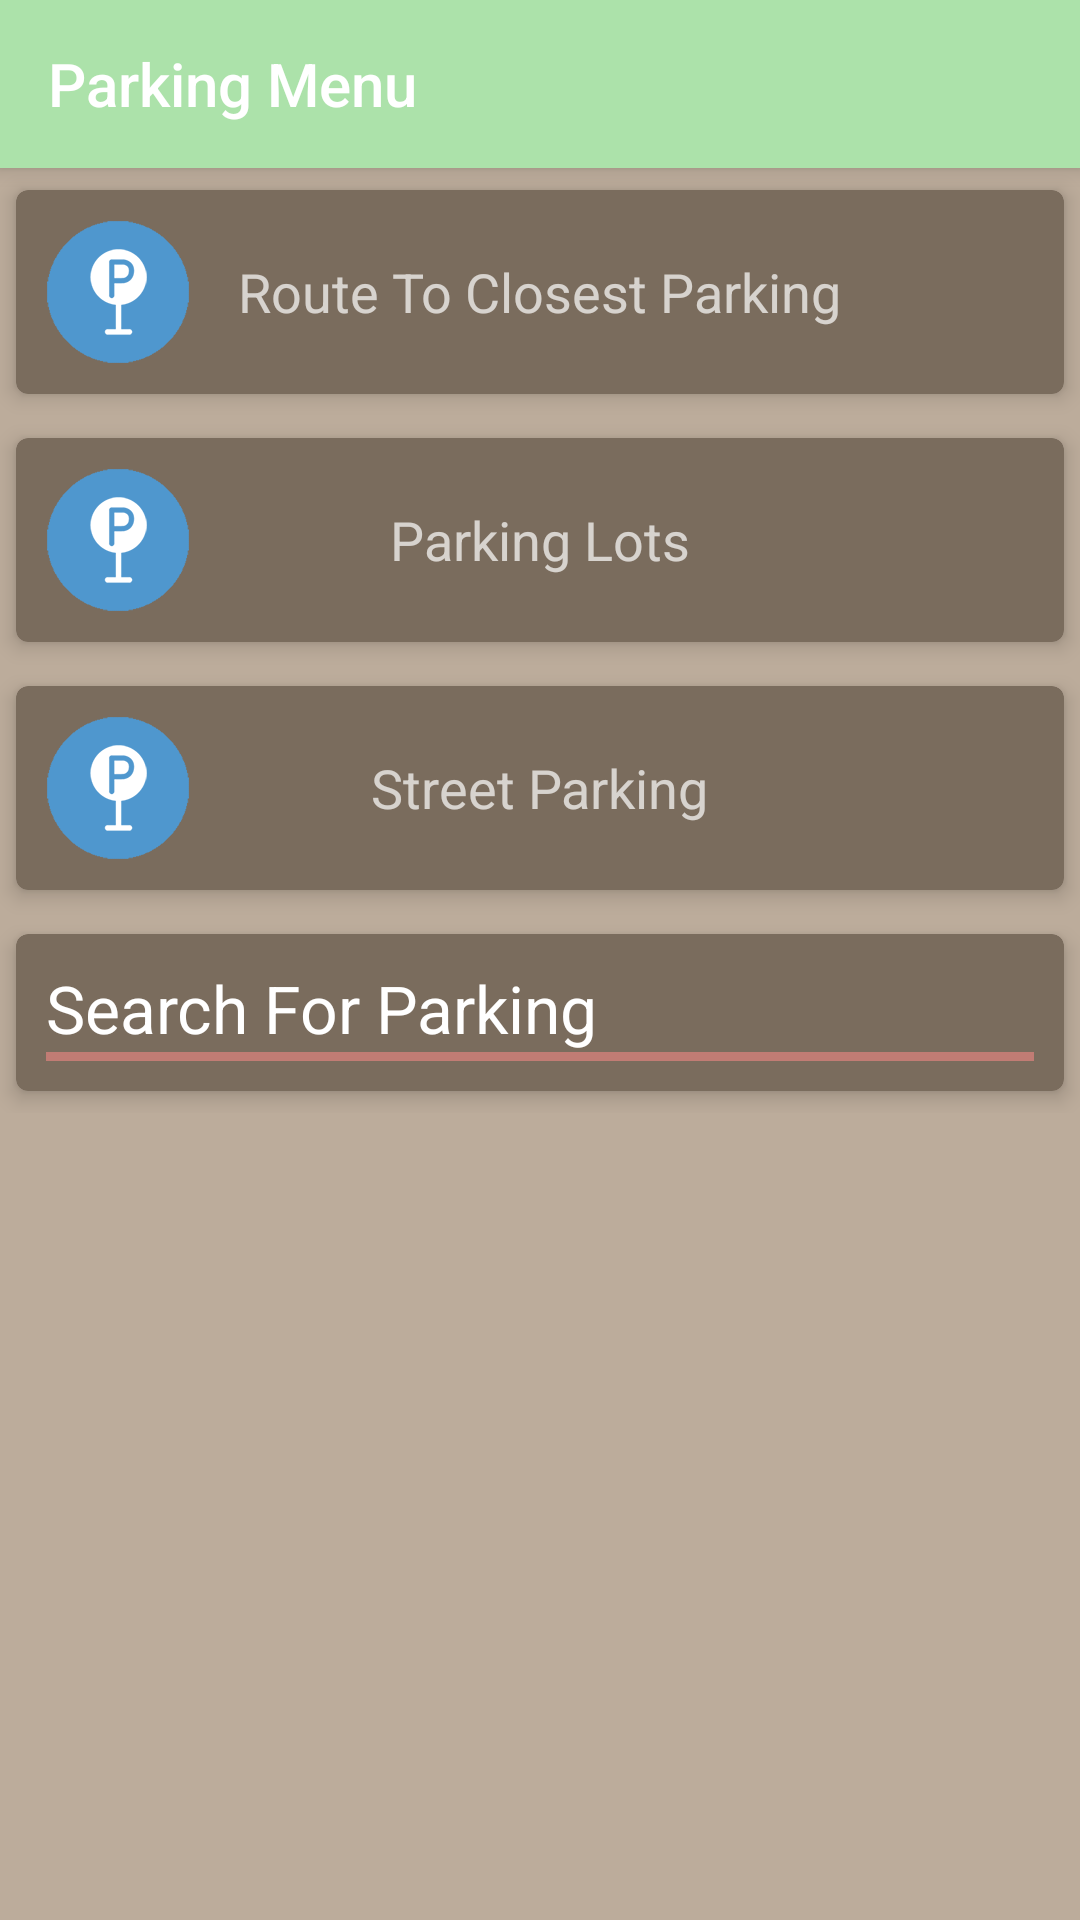

Icons on this 1080px x 1920px Android screen, each with its box as (x1, y1, x2, y2):
item parking: (47, 221, 189, 363), (47, 469, 189, 611), (47, 717, 189, 859)
